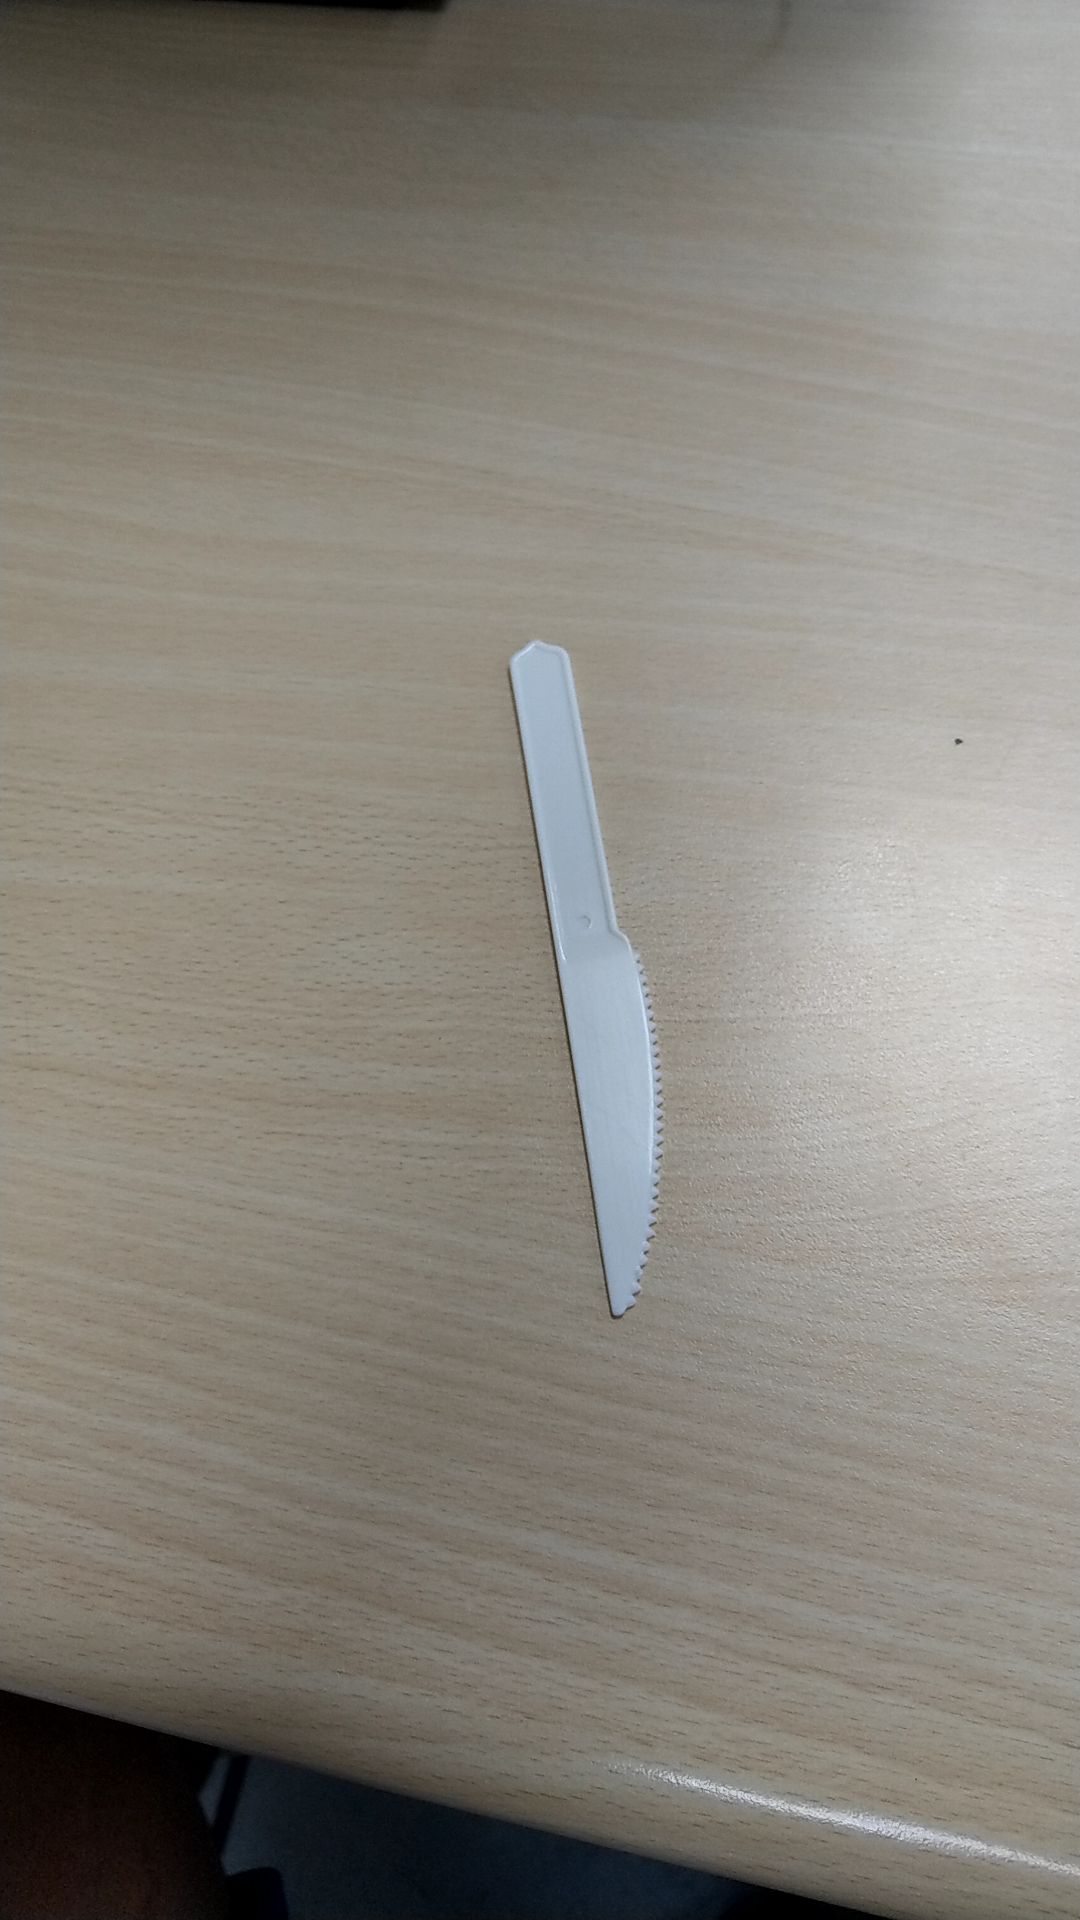knife: (477, 622, 712, 1332)
